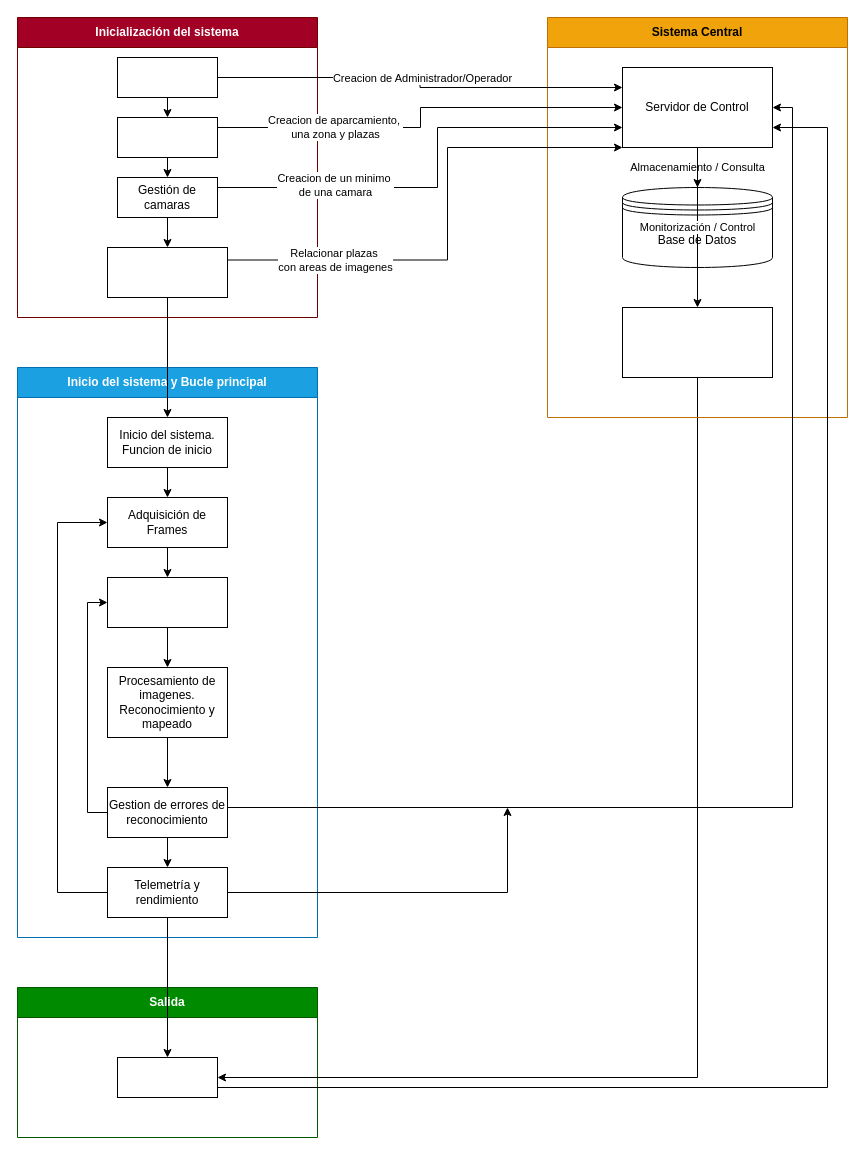
Some shapes in this 865 by 1155 pixel diagram are drawn without their labels. Here are the shapes that lost their labels. From the top down, the centre of each, then its label:
point (167, 77): Gestión de Usuarios
point (167, 137): Gestión de aparcamiento
point (167, 272): Mapeo de cámaras con plazas
point (697, 342): Estación de Monitoreo / UI
point (167, 602): Preprocesamiento de imagenes
point (167, 1077): Presentación
